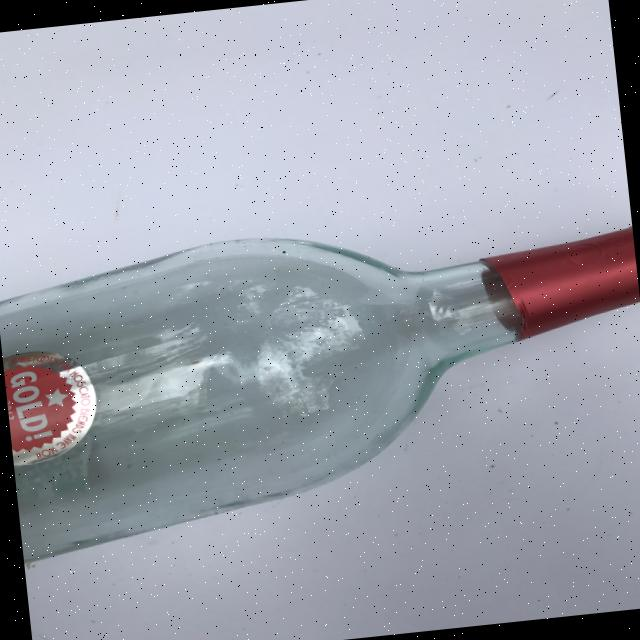glass: (0, 195, 640, 564)
